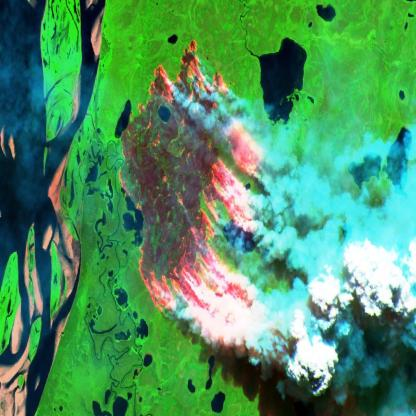fire: (113, 36, 266, 325)
